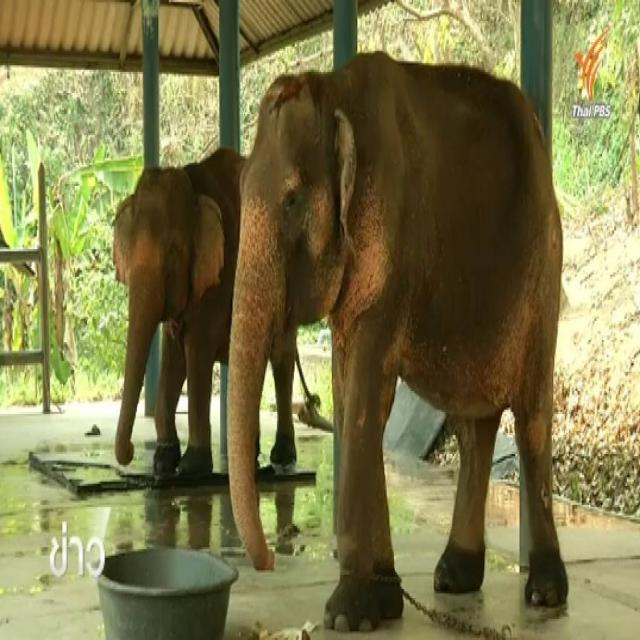Elephant: (226, 39, 590, 627), (99, 128, 254, 532), (436, 64, 440, 66)
